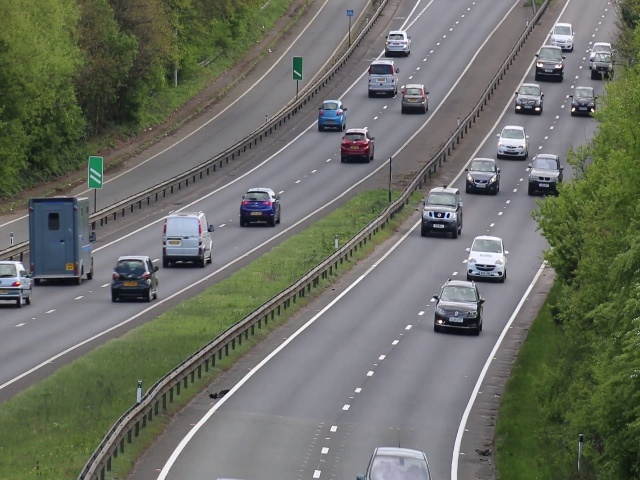car: (26, 196, 98, 285), (161, 208, 215, 266), (432, 278, 485, 337), (421, 184, 464, 237), (109, 255, 158, 301), (465, 234, 508, 284), (237, 186, 283, 226), (1, 255, 32, 308), (527, 151, 560, 196), (340, 124, 376, 163), (466, 155, 500, 195), (365, 60, 400, 97), (494, 124, 529, 159), (533, 45, 563, 82), (512, 82, 544, 115), (400, 82, 430, 116), (569, 83, 595, 119), (317, 97, 346, 129), (587, 49, 616, 81), (549, 21, 577, 51), (384, 29, 411, 58)
